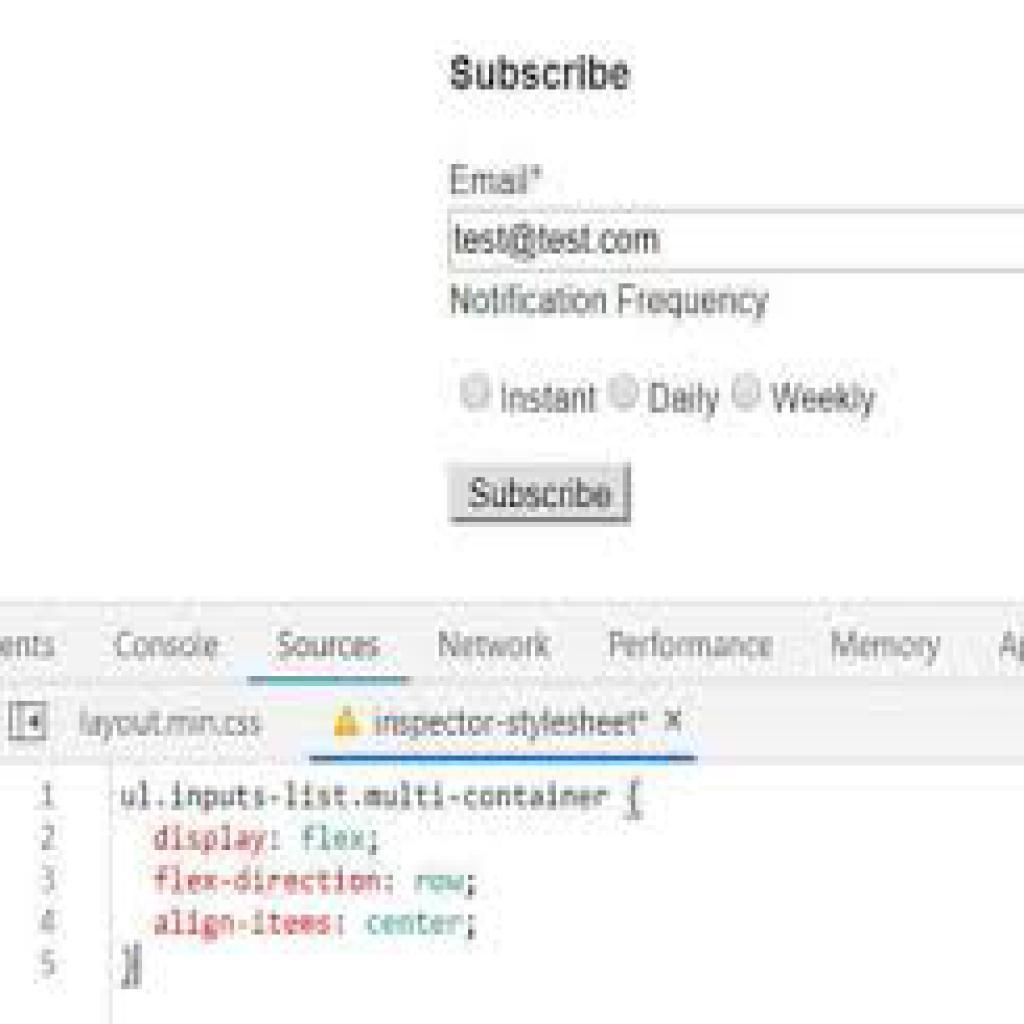button: (442, 457, 636, 524)
input: (447, 207, 1024, 274)
radio: (459, 360, 497, 424), (731, 360, 767, 424), (604, 366, 645, 421)
